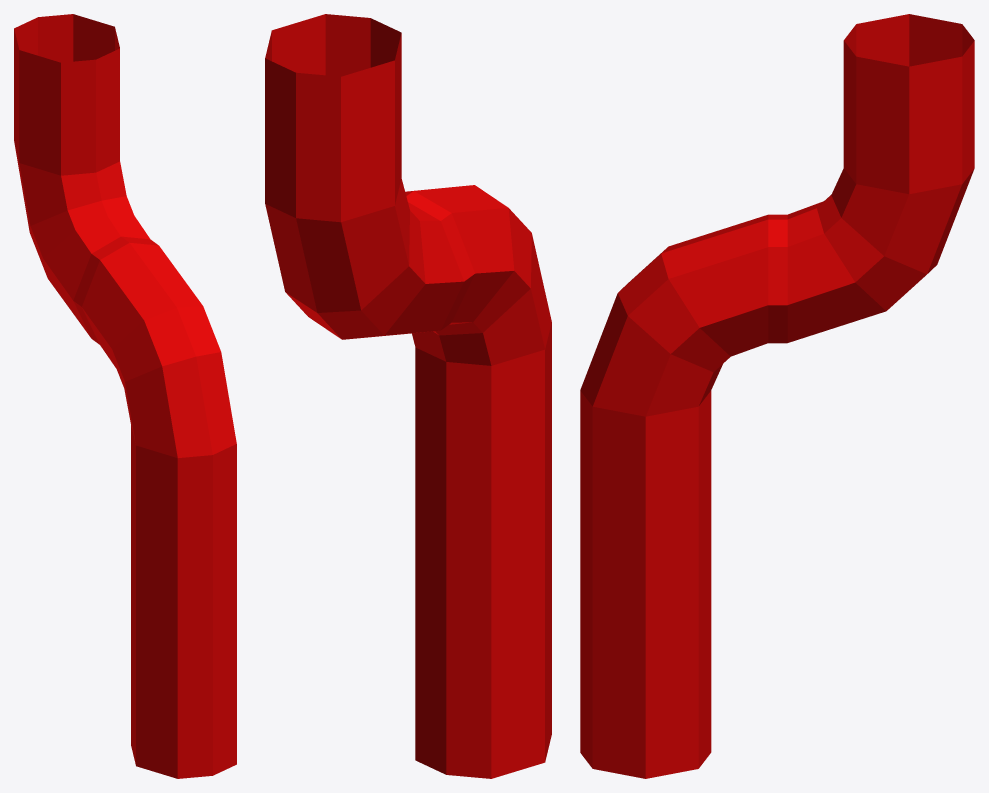
Rendered from c_pipe_7.fbx.
3 views of the same model, side by side, from view 1: azimuth 30°, elevation 25°; view 2: azimuth 150°, elevation 25°; view 3: azimuth 270°, elevation 25° (orthographic). The views are drawn at different scales.
Parts seen in each view (by area): view 1: coll_pipe_7; view 2: coll_pipe_7; view 3: coll_pipe_7.
Boxes of the visible parts, x1,y1,x2,y2 form: coll_pipe_7: (14, 14, 236, 778); coll_pipe_7: (265, 14, 551, 778); coll_pipe_7: (580, 14, 974, 778).
Bounding box in the file's own units: 95.11 × 600 × 301.
